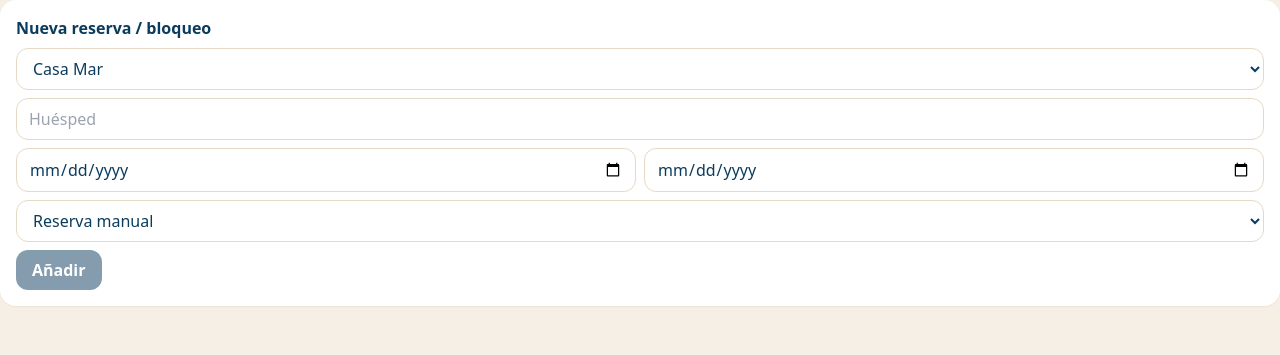
Test case: Bookings › muestra el error del backend
Step 1. Type "2026-11-05" into the 1st date field → (326, 170), box [16,148,636,192]
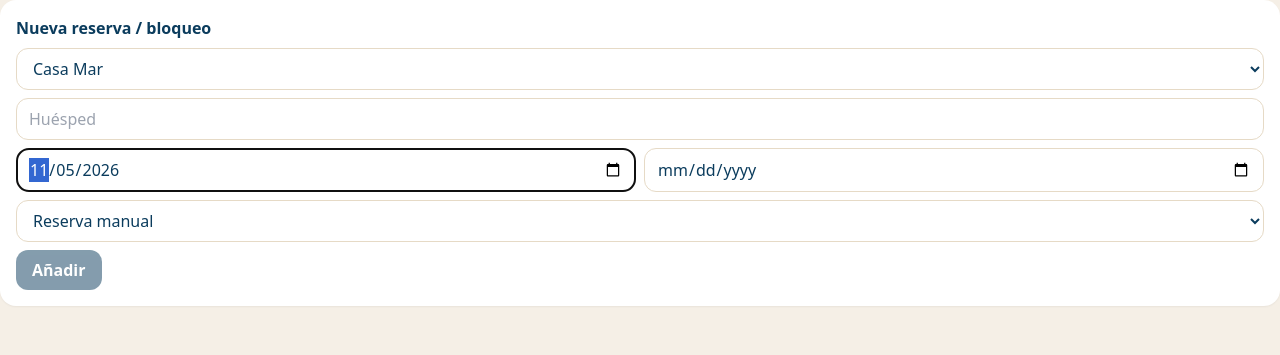
Step 2. Type "2026-11-01" into the 2nd date field → (954, 170), box [644,148,1264,192]
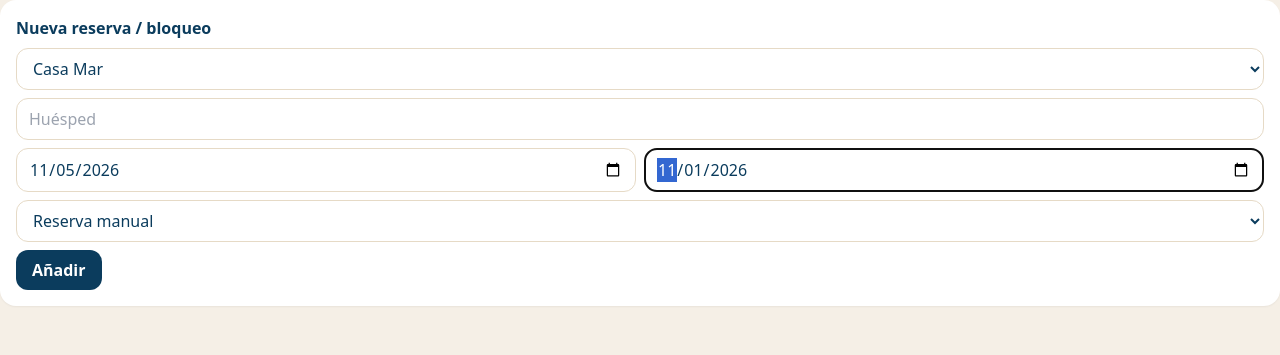
Step 3. Click the button "Añadir" → (59, 270), box [16,250,102,290]
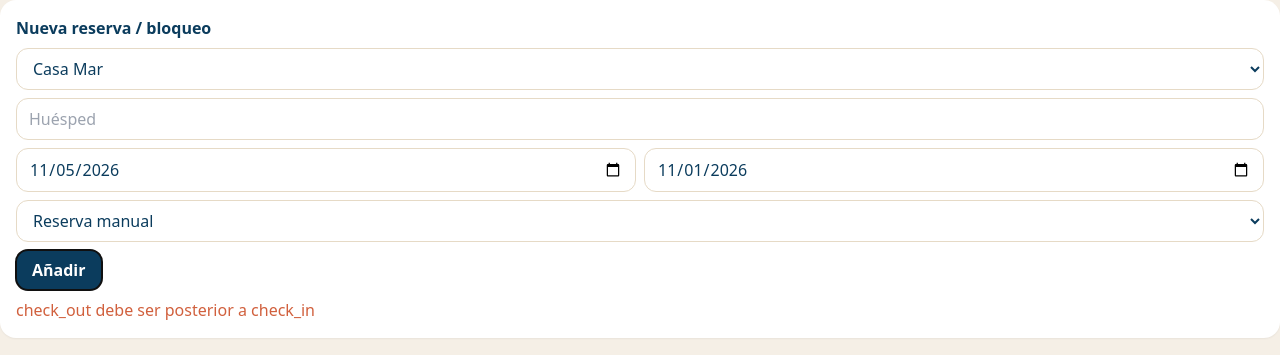
Result: the text "check_out debe ser posterior a check_in" is shown at [16,299,315,321]
